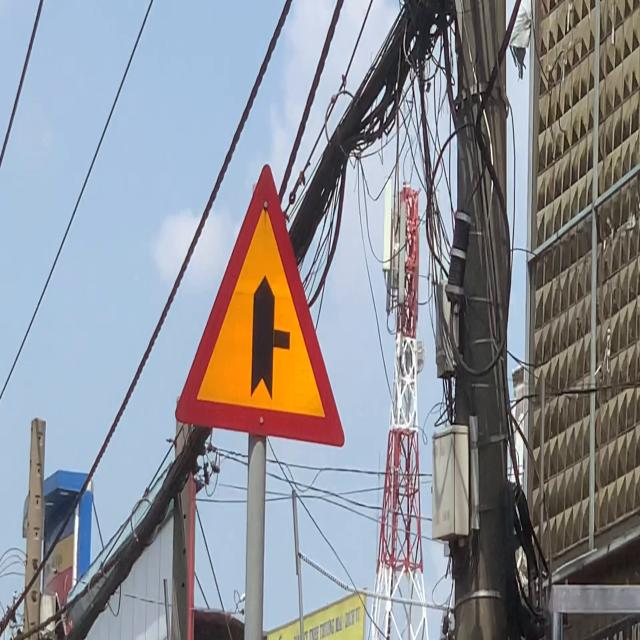Giao voi duong khong uu tien: (174, 160, 348, 451)
